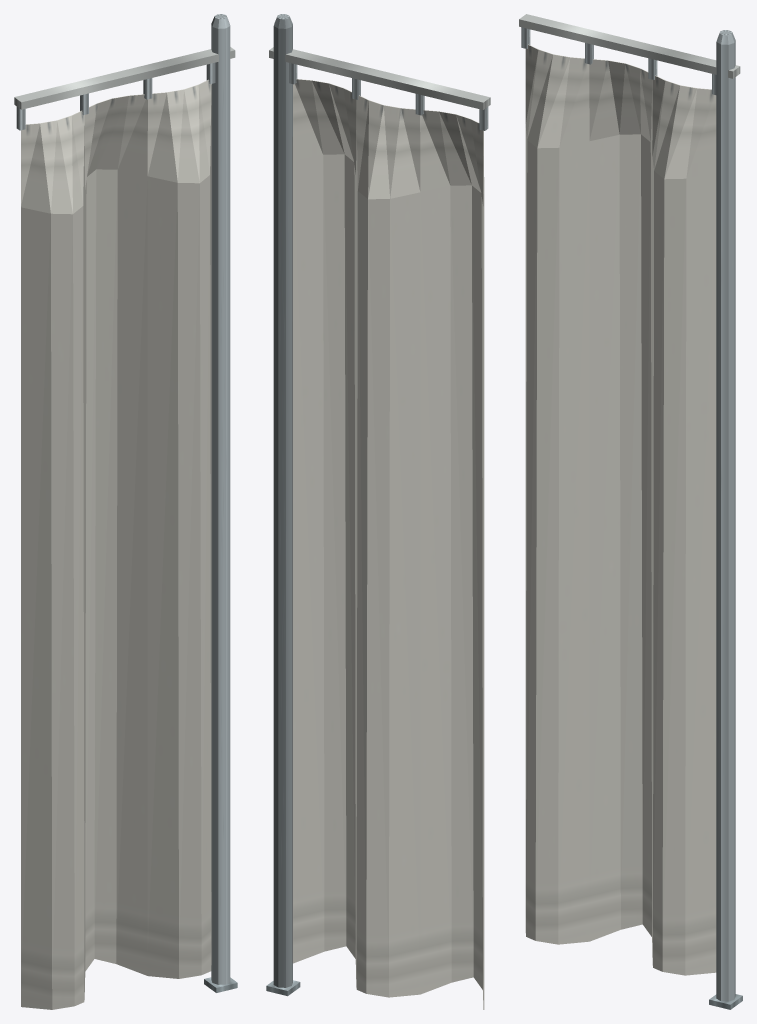
Rendered from pool_curtain_end.glb.
3 renders of one model, left to right at view 1: azimuth 30°, elevation 25°; view 2: azimuth 150°, elevation 25°; view 3: azimuth 330°, elevation 25°, orthographic.
Visible parts, largest first — view 1: core_pool_curtain_end; view 2: core_pool_curtain_end; view 3: core_pool_curtain_end.
Boxes of the visible parts, box(x1,y1,x2,y2) form: core_pool_curtain_end: box(14, 14, 237, 1009); core_pool_curtain_end: box(266, 14, 490, 1009); core_pool_curtain_end: box(519, 14, 742, 1009).
Size of the model in its own units: 0.6 by 2.6 by 0.214.
1 material, 1 textured.
